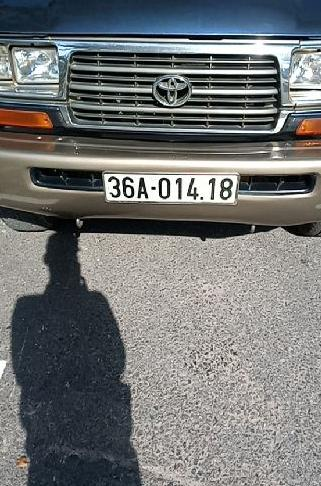Plate-iWeP: (102, 169, 243, 206)
